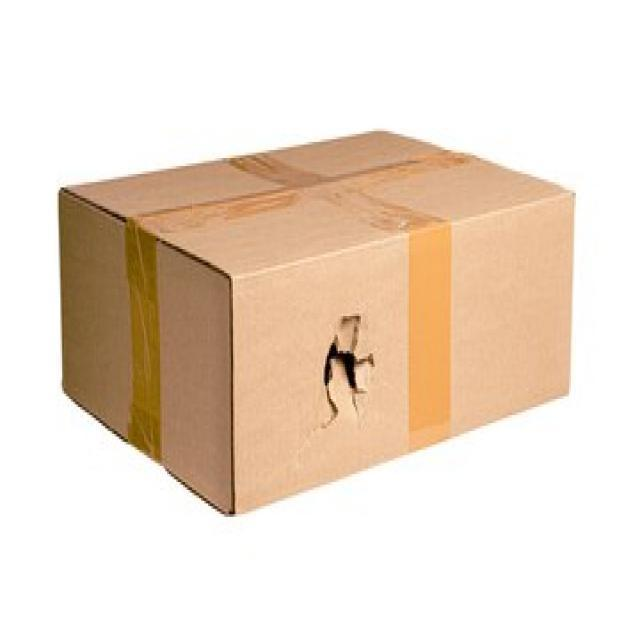hole: (309, 314, 377, 430)
